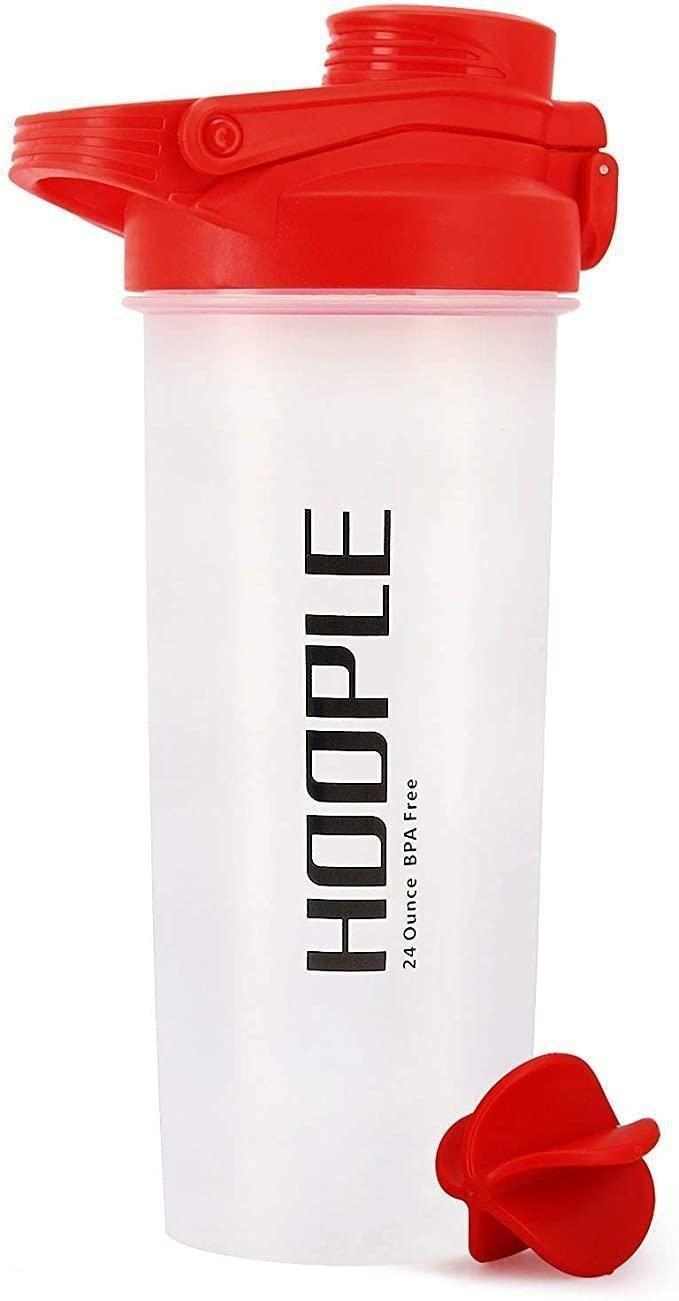gym bottle: (4, 2, 623, 1276)
